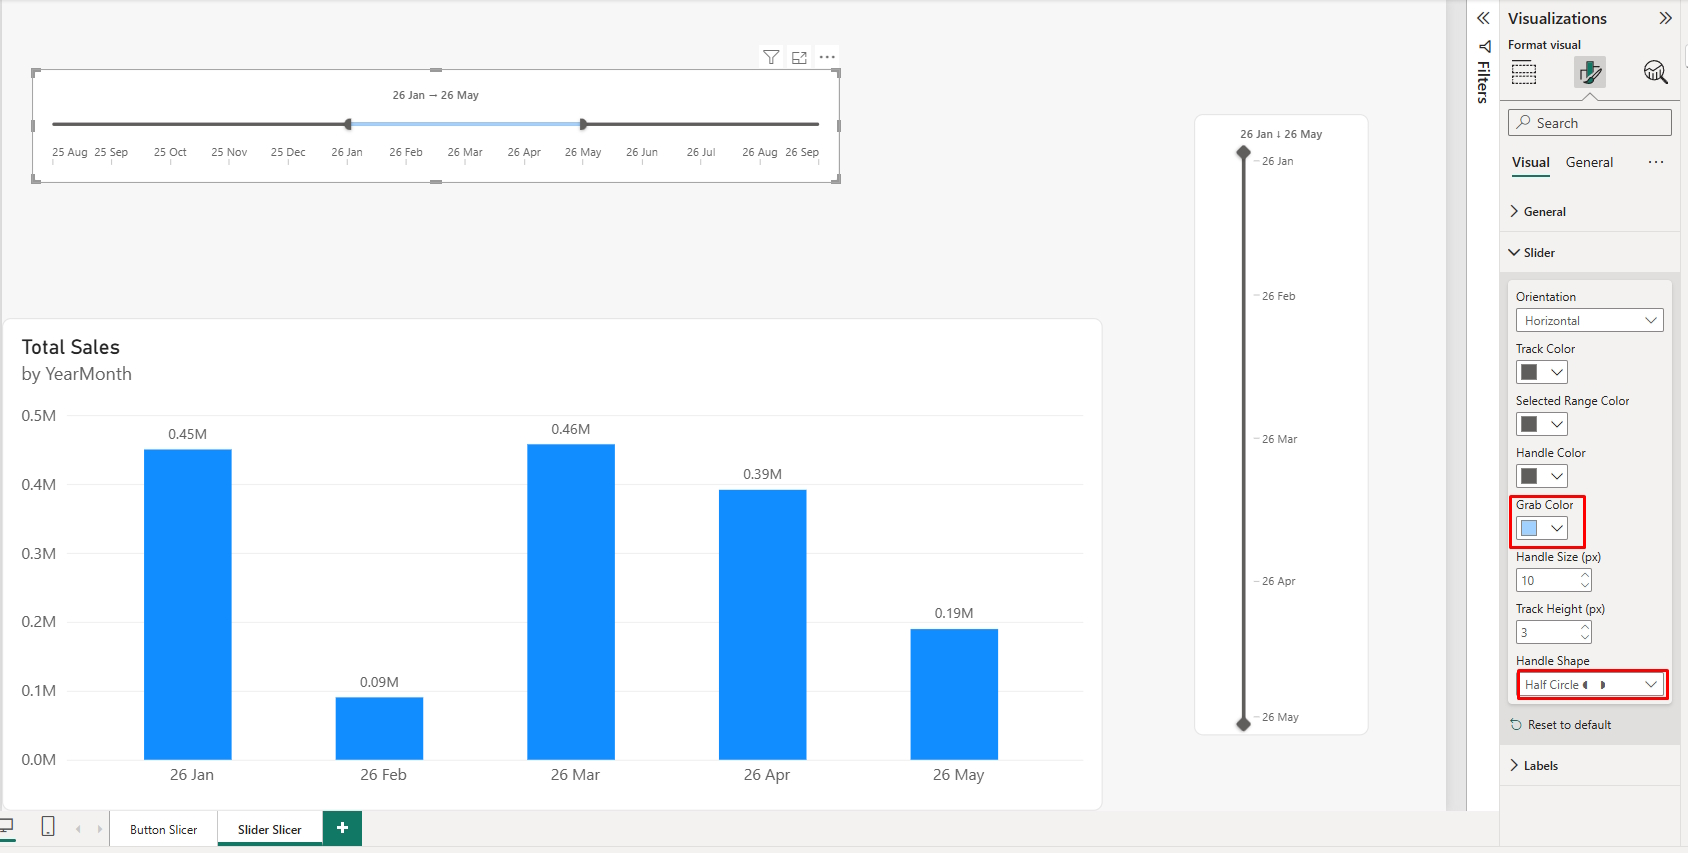

The dashboard page shown, as its layout file describes it:
{"tool":"powerbi","page":{"name":"Slider Slicer","canvas":[1280,720],"ordinal":1},"visuals":[{"type":"columnChart","fields":{"Category":["DimDate.YearMonth"],"Y":["FactSales.Total Sales"]},"box":[0,283,975.6,436.7],"z":0},{"type":"buttonSliderF1A2B3C4D5E6F7A8B9C0D1E2F3A4B5C6","fields":{"category":["DimDate.YearMonth"]},"box":[26.6,62.1,716.5,101.1],"z":1000},{"type":"buttonSliderF1A2B3C4D5E6F7A8B9C0D1E2F3A4B5C6","fields":{"category":["DimDate.YearMonth"]},"box":[1057.3,102.1,154.7,550.5],"z":1001}]}

Visuals, with their boxes on the page's 1280x720 design canvas (x1, y1, x2, y2). These are canvas units, not pixel positions in the 1688x853 screenshot, which may show the page scaled, cropped or inside an application window:
columnChart - DimDate.YearMonth x FactSales.Total Sales: left=0, top=283, right=976, bottom=720
buttonSliderF1A2B3C4D5E6F7A8B9C0D1E2F3A4B5C6 - DimDate.YearMonth: left=27, top=62, right=743, bottom=163
buttonSliderF1A2B3C4D5E6F7A8B9C0D1E2F3A4B5C6 - DimDate.YearMonth: left=1057, top=102, right=1212, bottom=653
